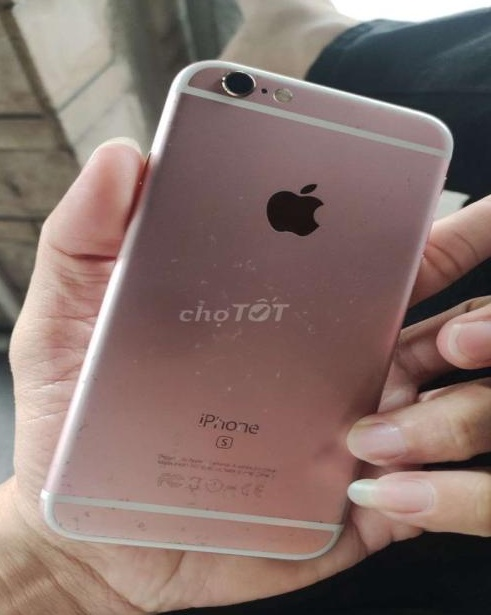scratch: (183, 323, 329, 421), (333, 96, 440, 219), (162, 481, 300, 550), (59, 457, 164, 543), (291, 277, 388, 344), (203, 64, 297, 126), (228, 253, 278, 289), (201, 217, 233, 253)
